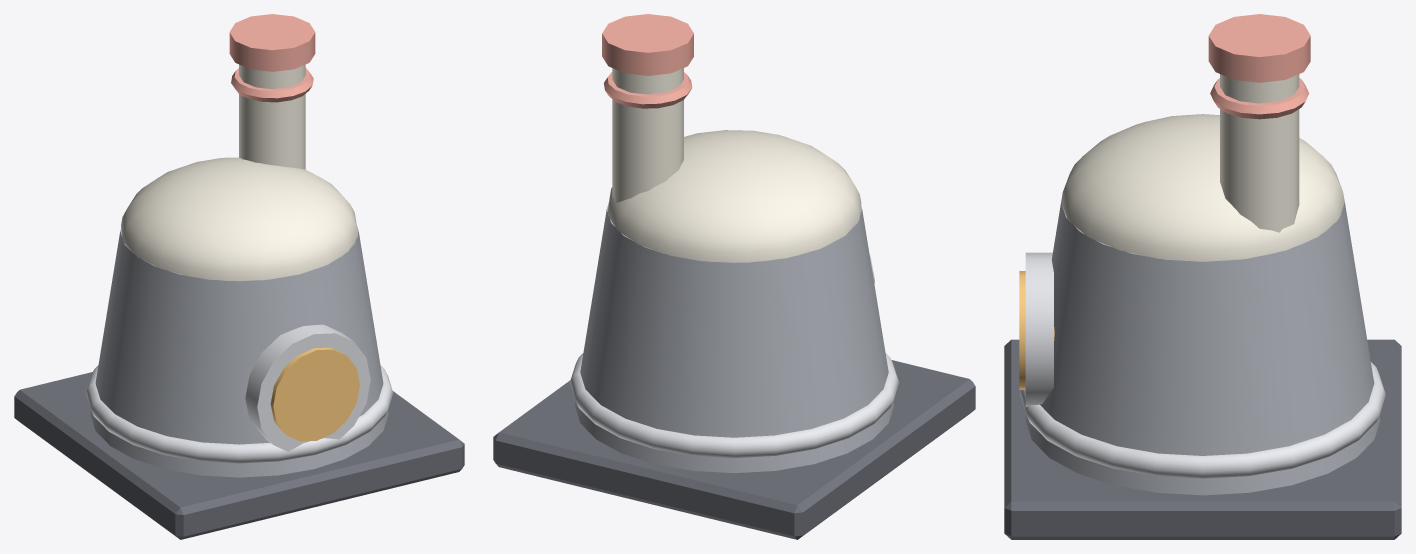
File: ic_smelter.glb
The picture shows the model from 3 angles, left to right: view 1: azimuth 30°, elevation 25°; view 2: azimuth 150°, elevation 25°; view 3: azimuth 270°, elevation 25°; orthographic projection. The views are drawn at different scales.
Parts seen in each view (by area): view 1: ic_smelter; view 2: ic_smelter; view 3: ic_smelter.
Part boxes in pixels (left/top/right/bottom): ic_smelter: left=14, top=14, right=464, bottom=539; ic_smelter: left=493, top=14, right=975, bottom=539; ic_smelter: left=1004, top=14, right=1401, bottom=539.
Size of the model in its own units: 2.8 by 3.55 by 2.8.
